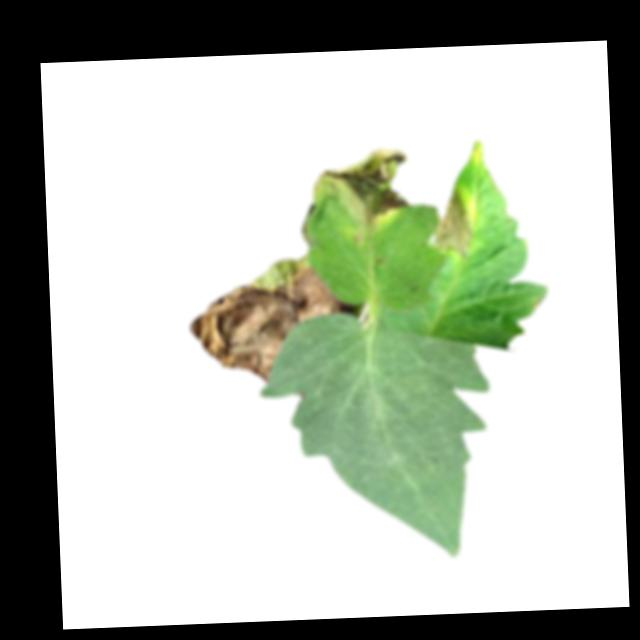Late_blight: (187, 262, 348, 386), (311, 147, 414, 238), (432, 188, 474, 259), (300, 199, 316, 245)
